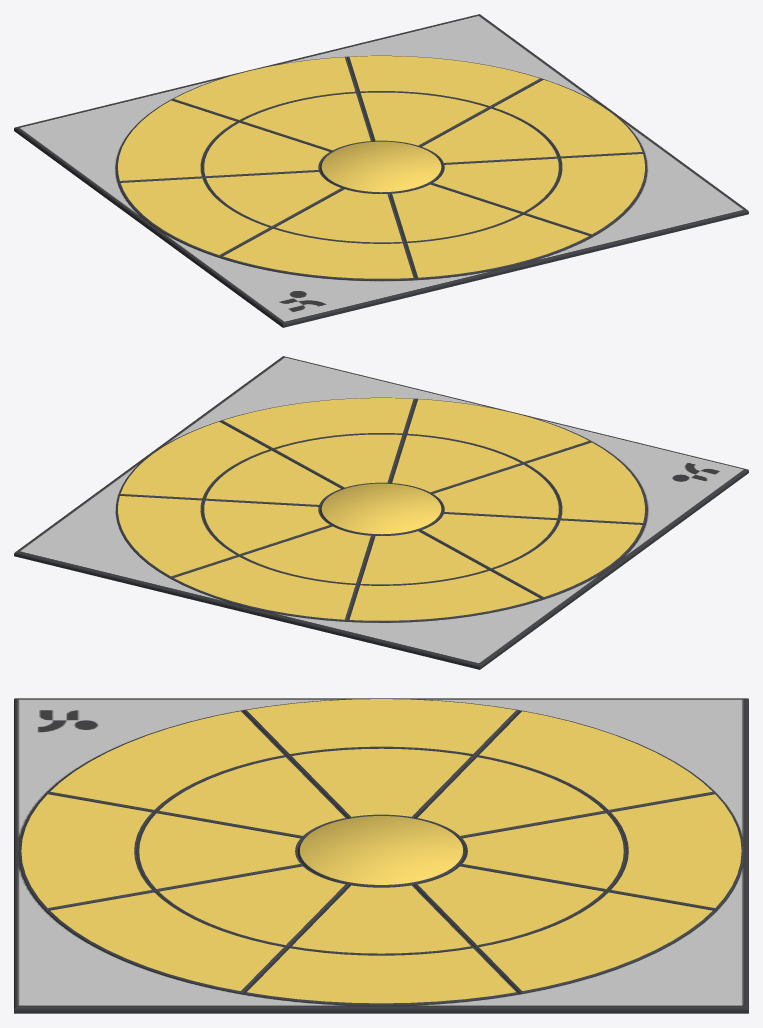
File: Dartboard.glb
3 renders of one model, top to bottom at view 1: azimuth 30°, elevation 25°; view 2: azimuth 150°, elevation 25°; view 3: azimuth 270°, elevation 25°, orthographic. The views are drawn at different scales.
Parts seen in each view (by area): view 1: Dartboard Base, F, E, G, D, B, A, H, C, INNERCIRCLE, 2, 3 (+6 smaller); view 2: Dartboard Base, H, A, G, B, D, E, C, F, INNERCIRCLE, 4, 5 (+6 smaller); view 3: Dartboard Base, C, B, D, G, E, A, F, H, INNERCIRCLE, 7, 8 (+6 smaller).
Part boxes in pixels (box(x1,y1,x2,y2)): Dartboard Base: box(14, 14, 748, 327); F: box(220, 228, 415, 280); E: box(405, 214, 591, 279); G: box(118, 178, 271, 257); D: box(524, 153, 647, 236); B: box(347, 55, 542, 107); A: box(171, 56, 357, 121); H: box(115, 100, 237, 182); C: box(492, 79, 644, 158); INNERCIRCLE: box(320, 141, 442, 193); 2: box(358, 92, 489, 147); 3: box(419, 108, 558, 164); Dartboard Base: box(14, 356, 748, 669); H: box(347, 570, 542, 622); A: box(171, 556, 357, 621); G: box(491, 520, 644, 599); B: box(115, 495, 238, 578); D: box(220, 397, 415, 449); E: box(405, 398, 591, 464); C: box(118, 421, 270, 500); F: box(525, 442, 647, 524); INNERCIRCLE: box(320, 483, 442, 535); 4: box(273, 434, 404, 489); 5: box(390, 434, 522, 494); Dartboard Base: box(14, 698, 748, 1013); C: box(243, 947, 519, 1006); B: box(476, 892, 716, 994); D: box(46, 892, 286, 994); G: box(243, 698, 519, 756); E: box(18, 793, 154, 910); A: box(608, 793, 744, 910); F: box(46, 710, 286, 812); H: box(476, 710, 716, 812); INNERCIRCLE: box(298, 816, 464, 887); 7: box(288, 748, 474, 818); 8: box(414, 756, 607, 838).
Bounding box in the file's own units: 1.21 × 0.0143 × 1.21.
Materials: 3 (1 with a texture image).
